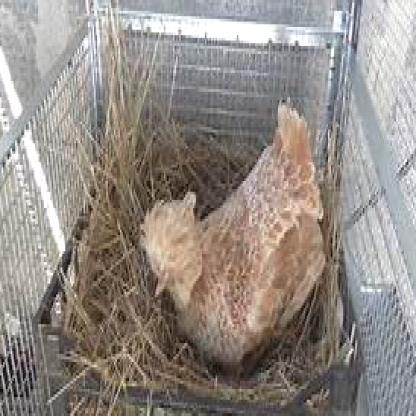chicken: (140, 100, 326, 370)
